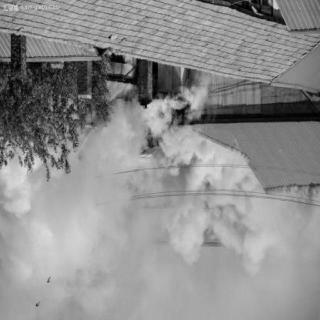Smoke: (162, 152, 272, 270)
